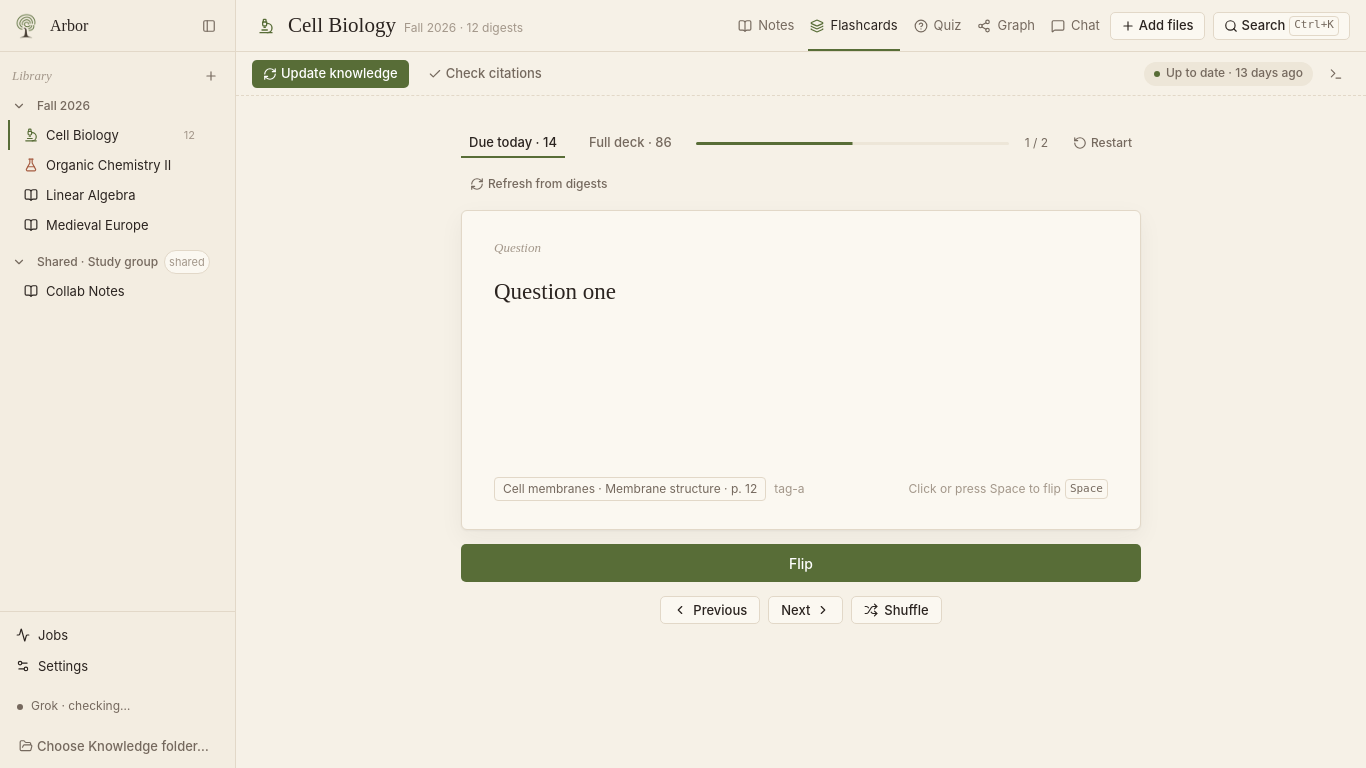
it: flashcards PR8 › optimistically advances after mastered grade while study_progress is pending
Expected: the element with test id "flashcards-view" is shown, x1=461 y1=128 x2=1141 y2=624
Expected: the tab "Due today · 14" is shown, x1=461 y1=128 x2=565 y2=158
Click the button "Flip": {"x": 801, "y": 563} x1=461 y1=544 x2=1141 y2=582
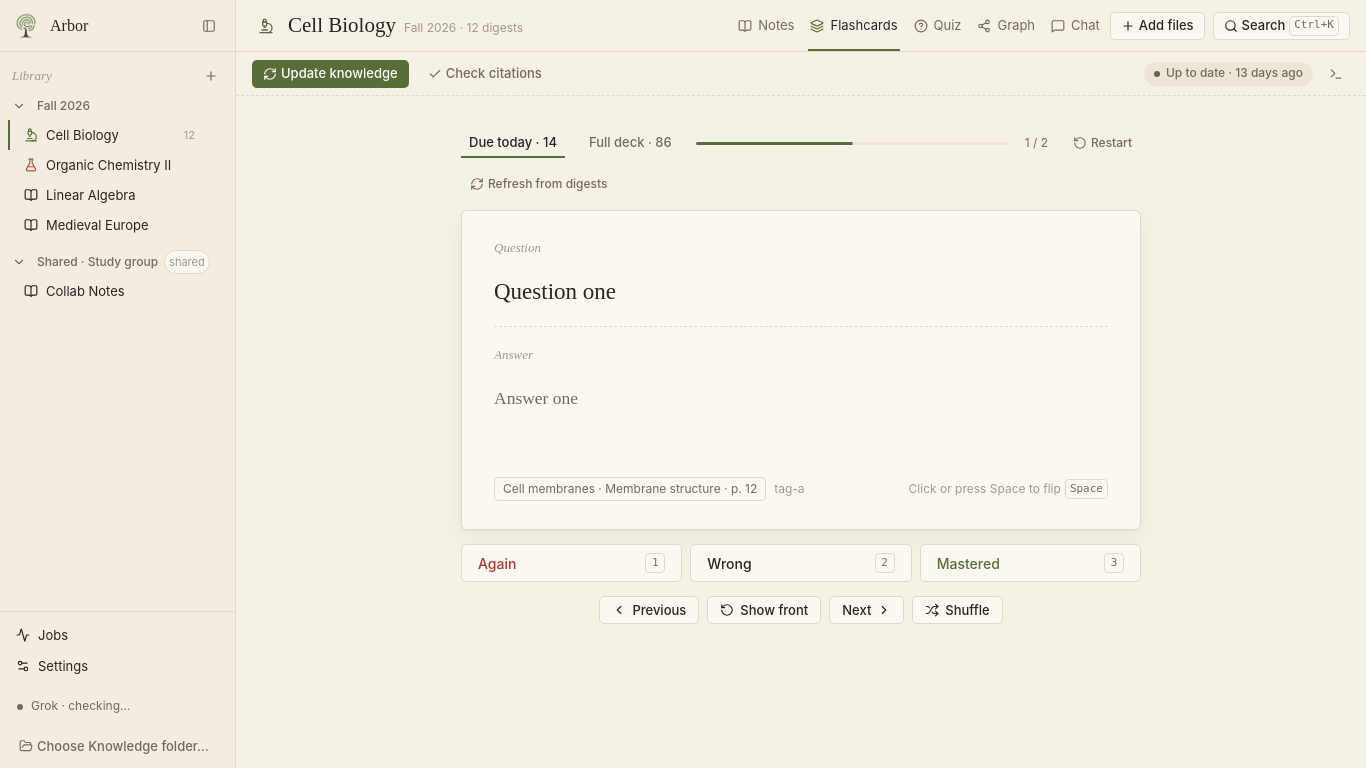
Type keys "3"
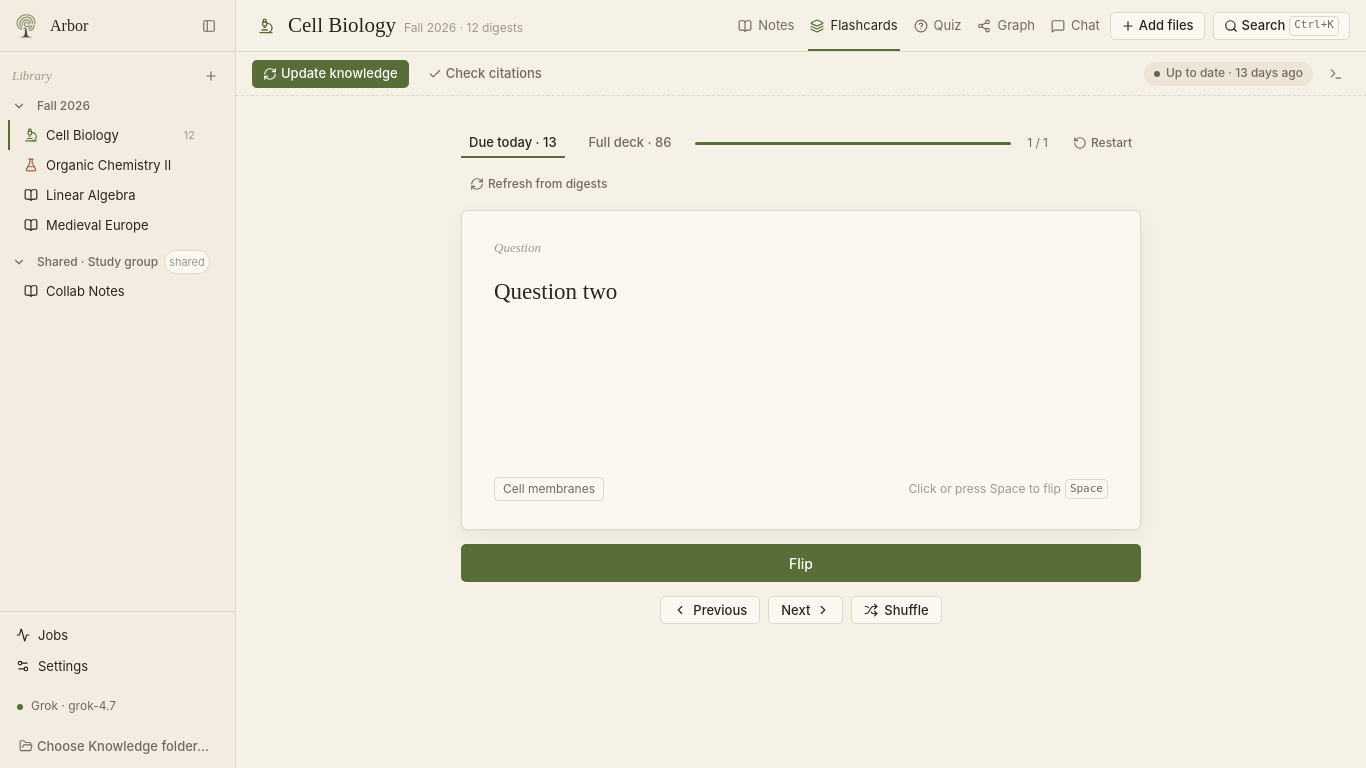
Result: the text "Question two" is shown at x1=494 y1=279 x2=617 y2=304
Result: the tab "Due today · 13" is shown at x1=461 y1=128 x2=565 y2=158
